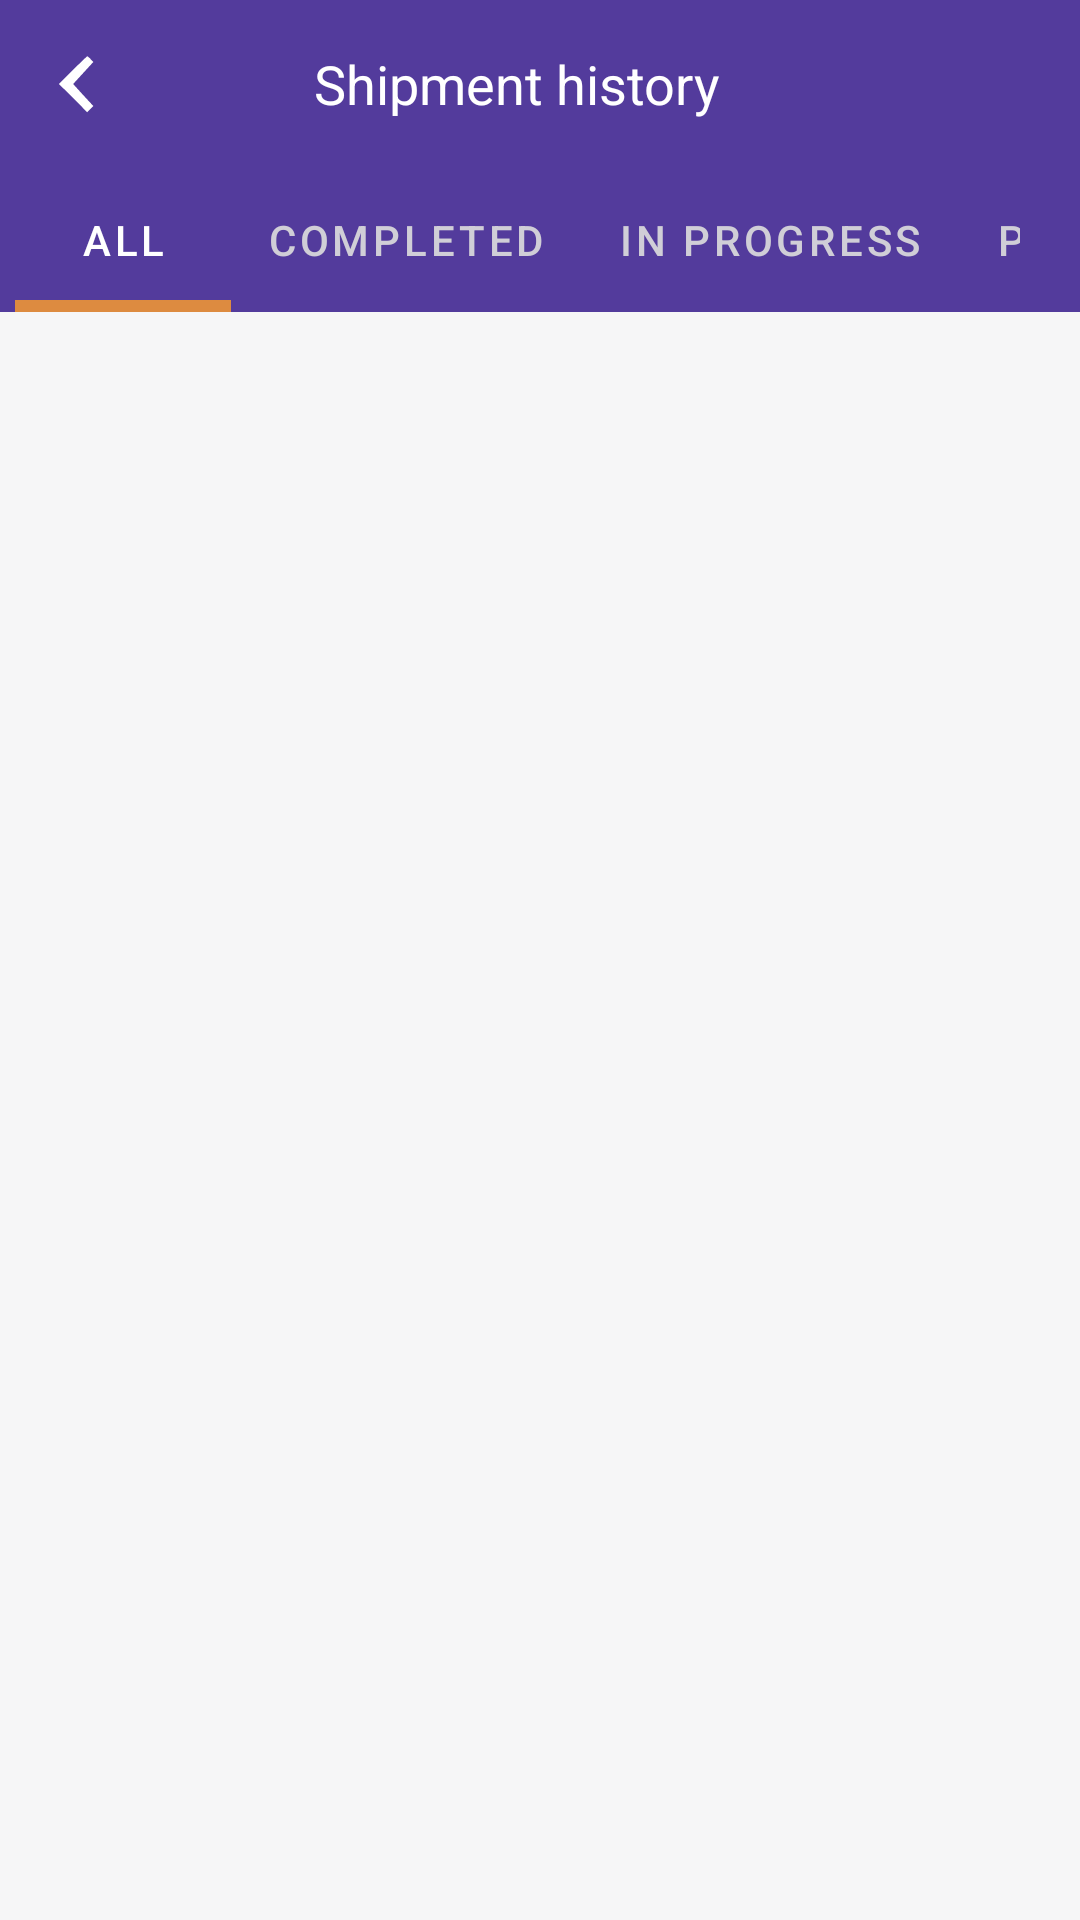

Icon bounding boxes for this 1080×1920 phone screenshot, format (x1, y1, x2, y2):
arrow previous: (59, 56, 93, 112)
